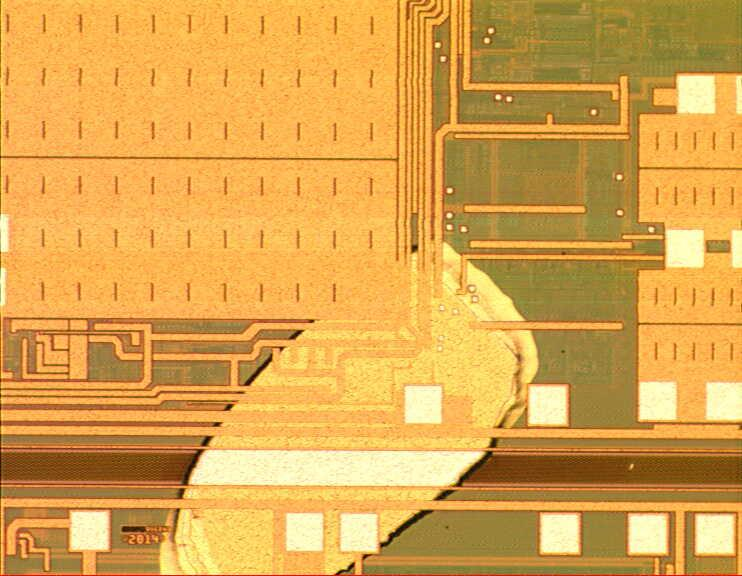BLOCK ETCH: (153, 229, 550, 576)
